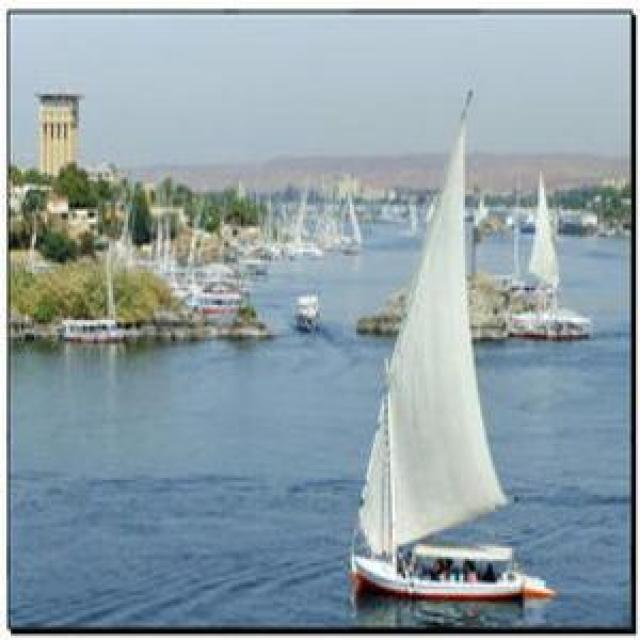passenger ship: (57, 317, 125, 343), (197, 286, 246, 314), (293, 292, 323, 332)
sailboat: (352, 80, 542, 615), (512, 176, 585, 338)
